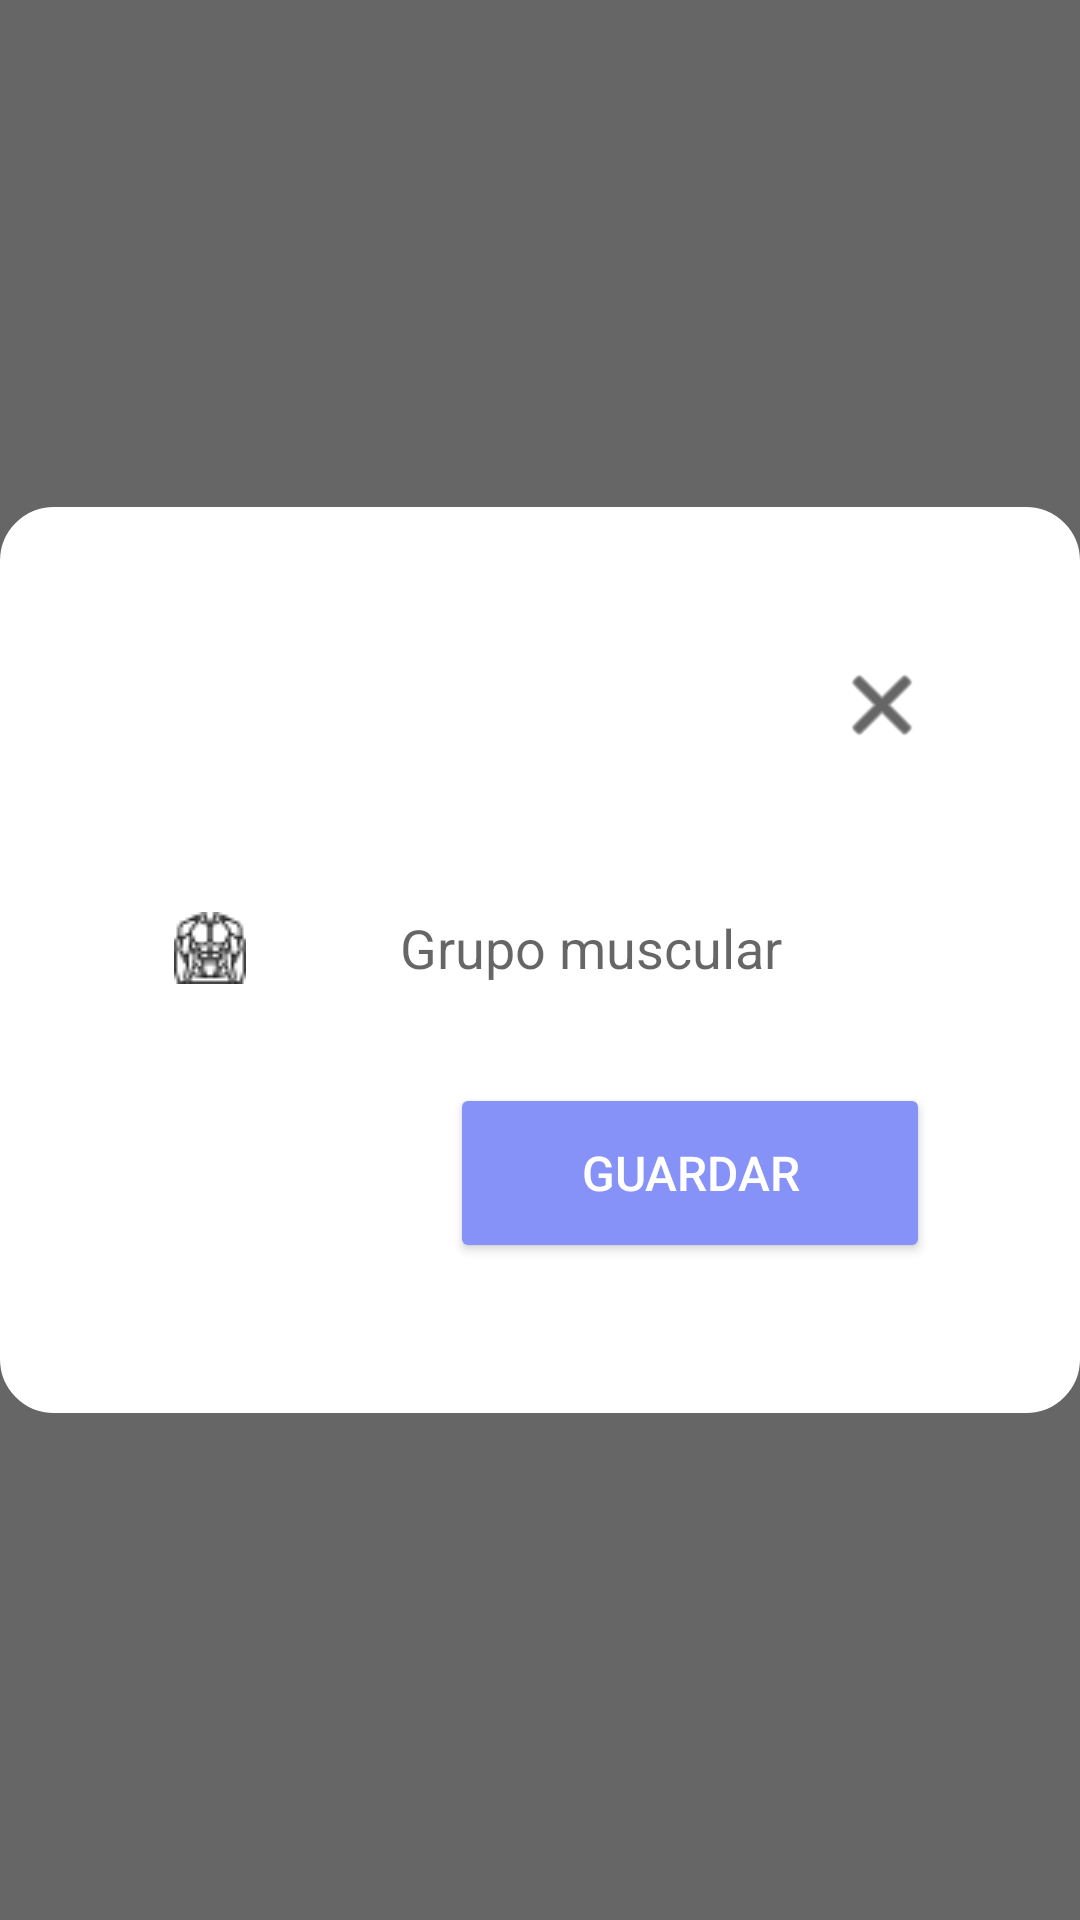

Where icons sit on this 1080 x 1920 app screen, as (x1, y1, x2, y2):
close clear cancel: (852, 675, 912, 735)
